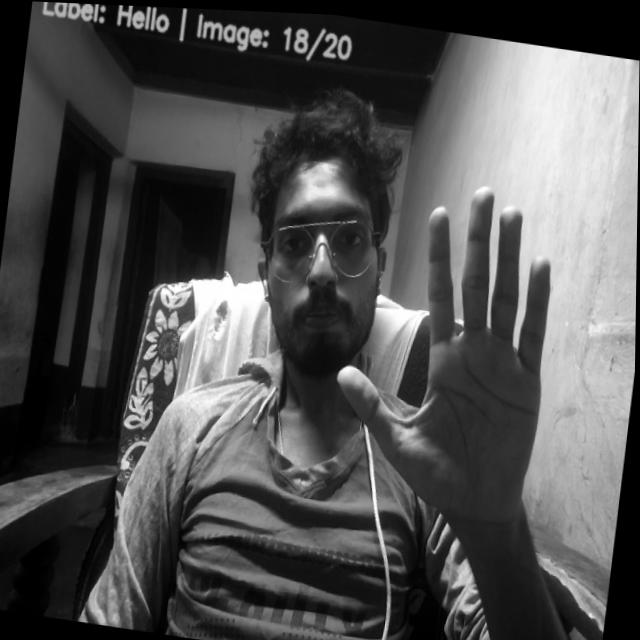Hello: (327, 161, 566, 528)
